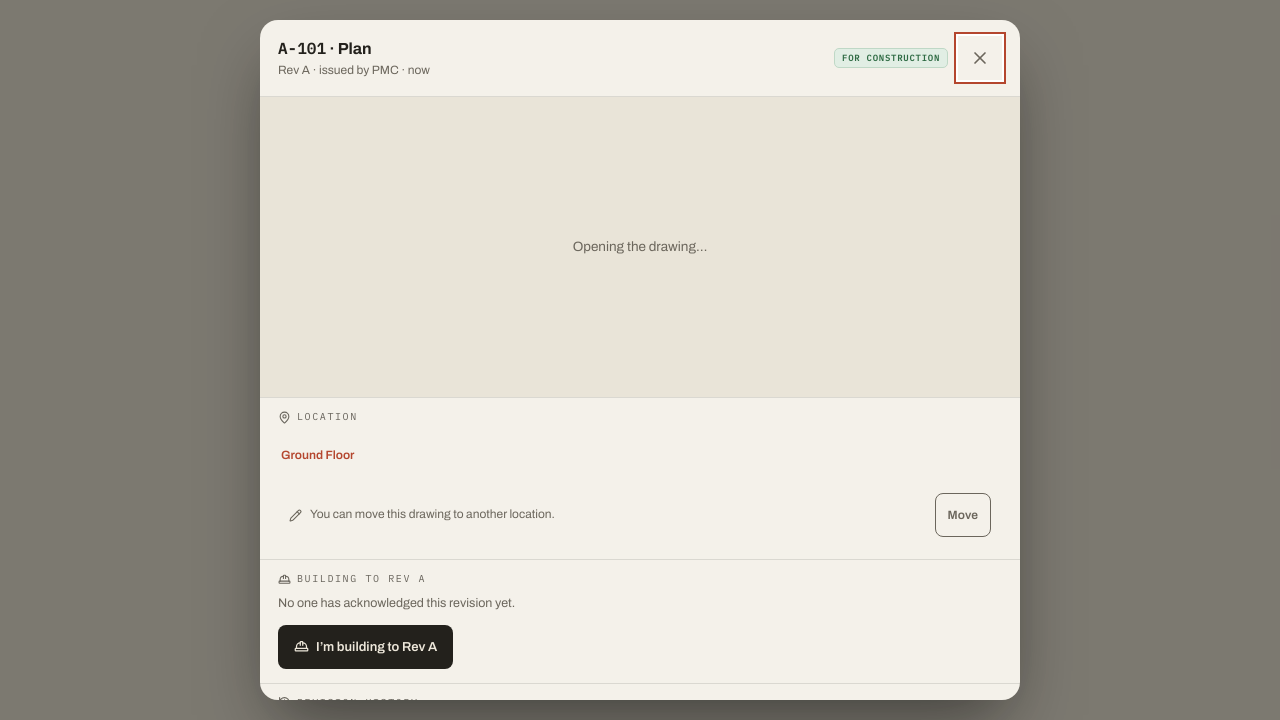
C2b — DrawingLocationBlock honours drawingMutationsBlocked (moduleQuery) › ready: the Move control is ENABLED and, once the editor is open, so is Unfile (no paused notice)
Click the button with test id "drawing-refile".
click(963, 515)  # box [935,493,991,537]
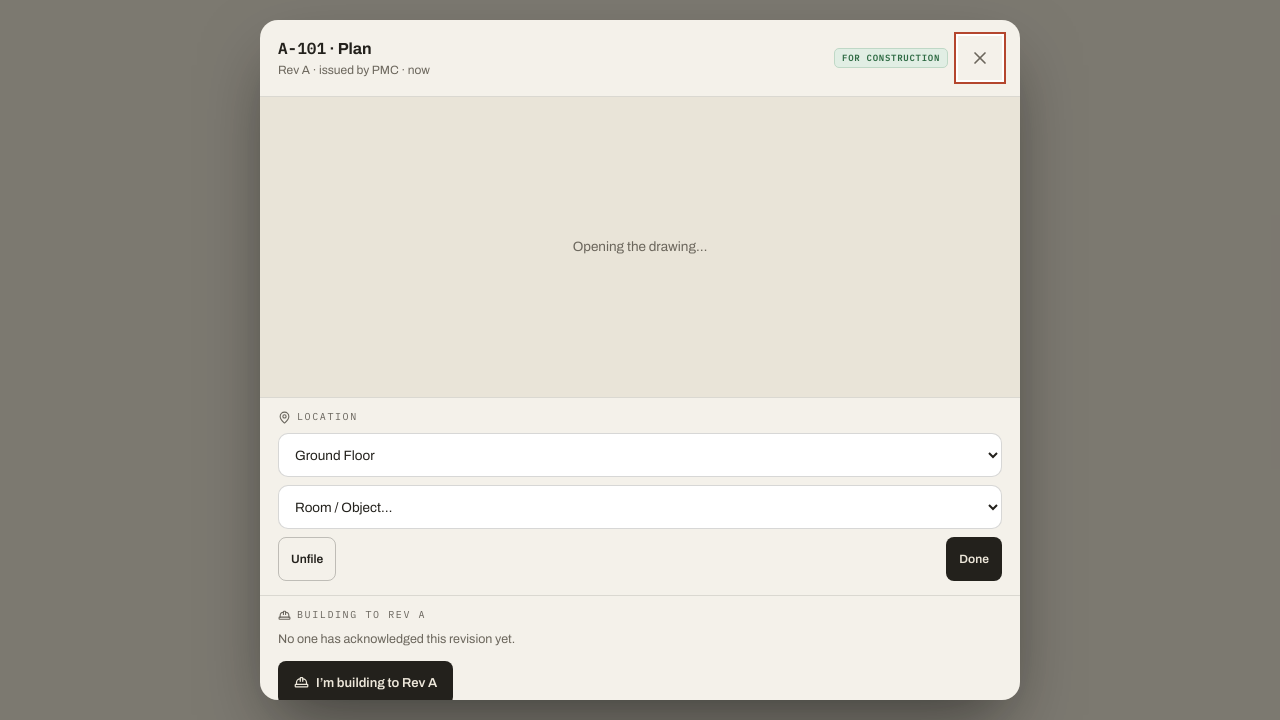
Expected: the button with test id "drawing-unfile" is enabled, [278,537,336,581]
